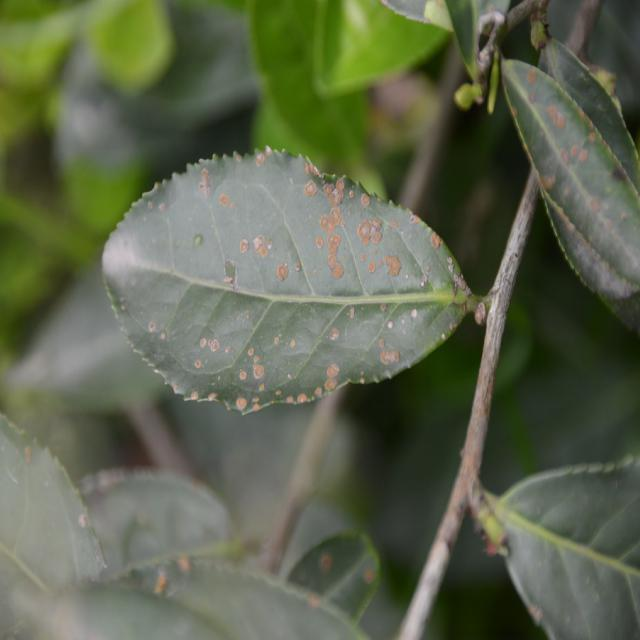Tea algae leaf spot: (117, 150, 466, 412)
